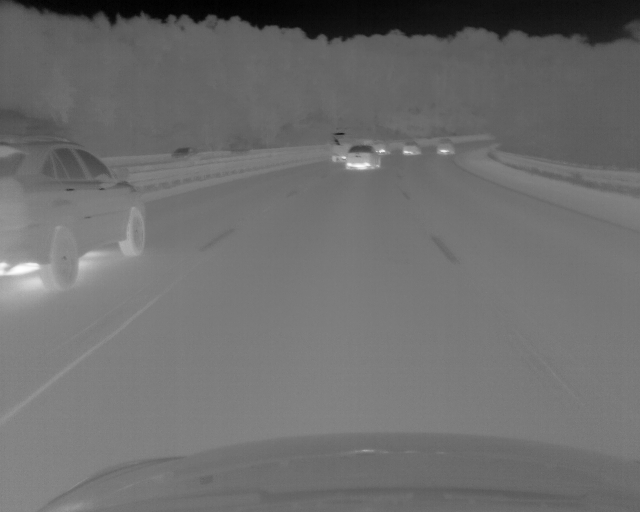car: (1, 134, 147, 291), (345, 144, 383, 169), (331, 133, 355, 161), (435, 137, 456, 155), (171, 147, 196, 159), (372, 137, 389, 154), (402, 140, 421, 155)
